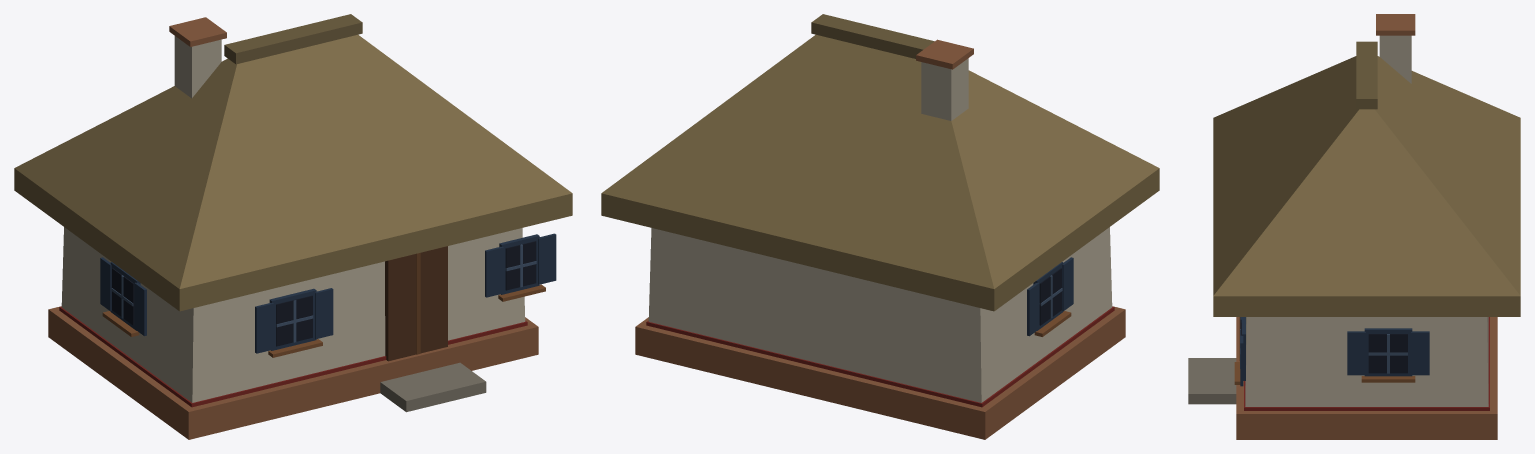
The model's file is khata.glb.
The picture shows the model from 3 angles, left to right: view 1: azimuth 30°, elevation 25°; view 2: azimuth 150°, elevation 25°; view 3: azimuth 270°, elevation 25°; orthographic projection. The views are drawn at different scales.
Parts seen in each view (by area): view 1: khata; view 2: khata; view 3: khata.
Boxes of the visible parts, box(x1,y1,x2,y2) form: khata: box(14, 14, 572, 439); khata: box(601, 14, 1159, 439); khata: box(1188, 14, 1520, 439).
Size of the model in its own units: 5.9 by 4.66 by 4.65.
